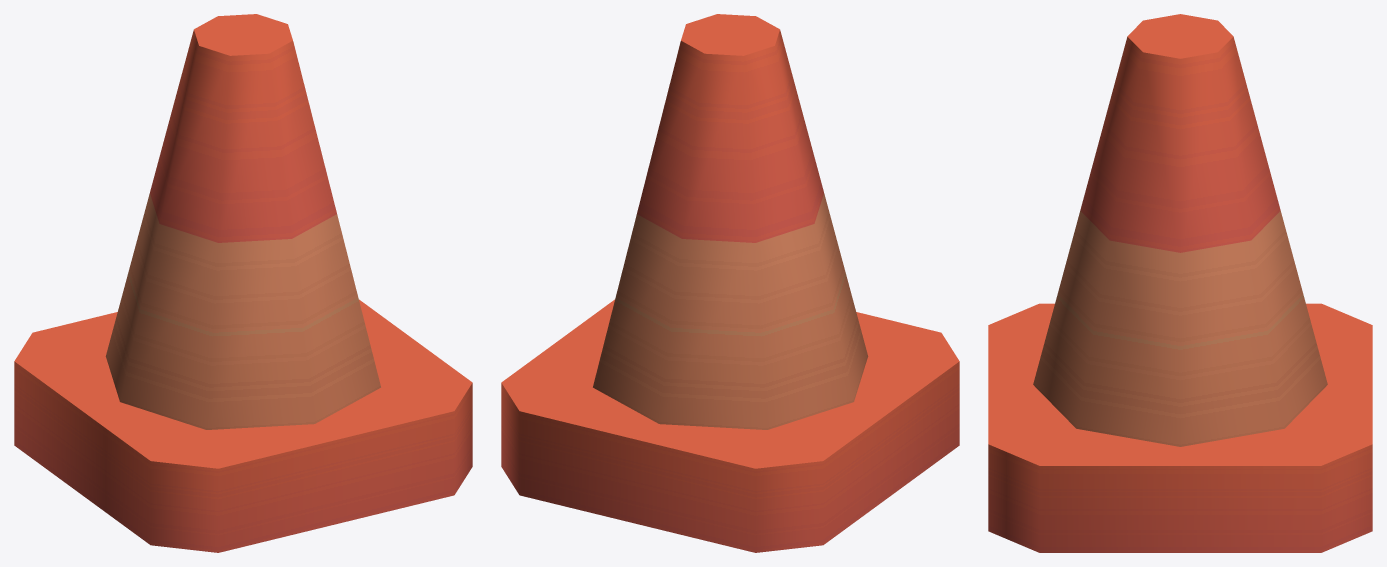
The model's file is construction-cone.glb.
3 views of the same model, side by side, from view 1: azimuth 30°, elevation 25°; view 2: azimuth 150°, elevation 25°; view 3: azimuth 270°, elevation 25° (orthographic). The views are drawn at different scales.
Visible parts, largest first — view 1: construction-cone; view 2: construction-cone; view 3: construction-cone.
Part boxes in pixels (x1,y1,x2,y2): construction-cone: (14, 14, 472, 552); construction-cone: (501, 14, 959, 552); construction-cone: (988, 14, 1372, 552).
Size of the model in its own units: 0.075 by 0.0938 by 0.075.
Materials: 1 (1 with a texture image).
